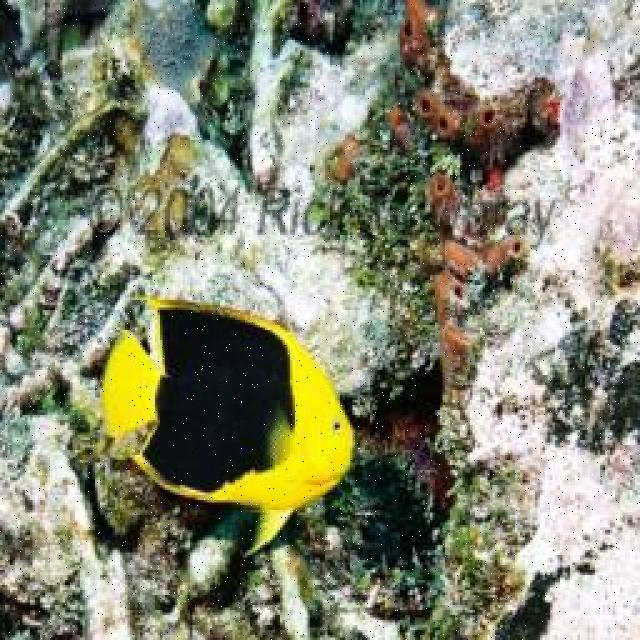fish: (98, 294, 353, 558)
reefs: (319, 0, 565, 638)
sea-floor: (0, 2, 403, 640)
